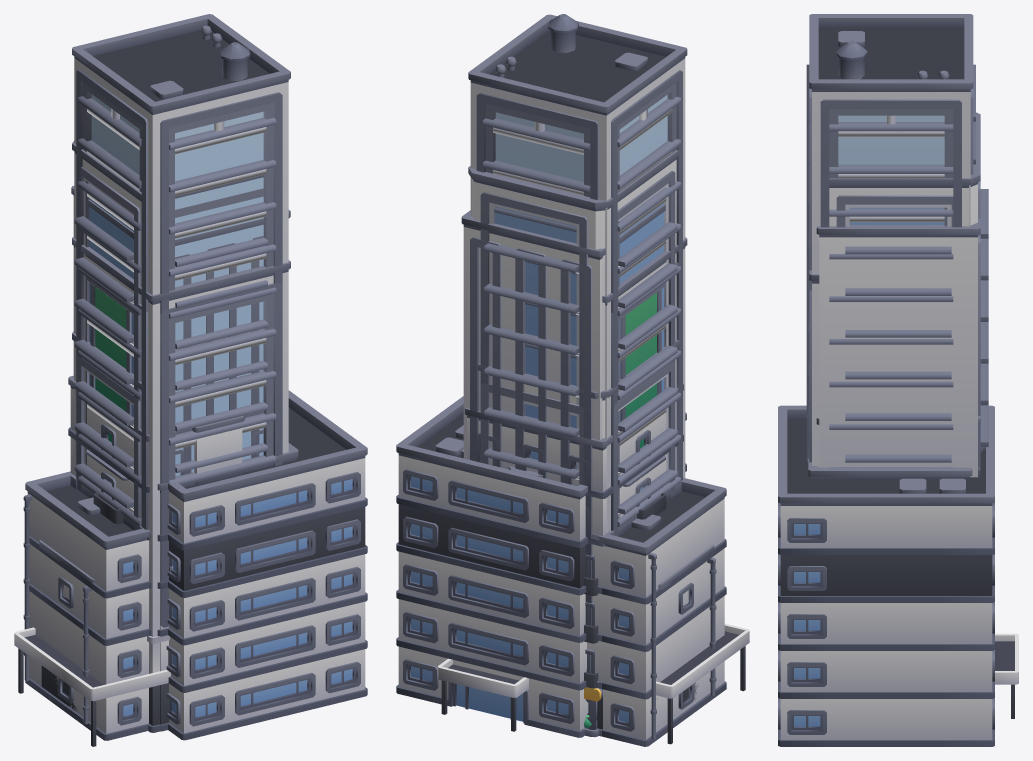
The model's file is commercial.glb.
3 renders of one model, left to right at view 1: azimuth 30°, elevation 25°; view 2: azimuth 150°, elevation 25°; view 3: azimuth 270°, elevation 25°, orthographic.
Parts seen in each view (by area): view 1: building-n, building-skyscraper-d, building-j, building-skyscraper-c, building-skyscraper-b, building-skyscraper-e, building-skyscraper-a, building-k, building-m, building-l; view 2: building-n, building-skyscraper-d, building-skyscraper-b, building-j, building-skyscraper-e, building-m, building-skyscraper-a, building-skyscraper-c, building-k, building-i; view 3: building-n, building-skyscraper-d, building-skyscraper-e, building-skyscraper-b, building-skyscraper-c, building-l, building-skyscraper-a.
Part boxes in pixels (left/top/right/bottom): building-n: left=14, top=390, right=367, bottom=746; building-skyscraper-d: left=72, top=14, right=290, bottom=731; building-j: left=23, top=471, right=149, bottom=740; building-skyscraper-c: left=72, top=237, right=290, bottom=732; building-skyscraper-b: left=72, top=140, right=267, bottom=518; building-skyscraper-e: left=71, top=186, right=290, bottom=480; building-skyscraper-a: left=72, top=331, right=267, bottom=530; building-k: left=39, top=540, right=95, bottom=728; building-m: left=68, top=375, right=263, bottom=629; building-l: left=93, top=443, right=298, bottom=731; building-n: left=396, top=396, right=749, bottom=744; building-skyscraper-d: left=468, top=14, right=687, bottom=530; building-skyscraper-b: left=468, top=150, right=678, bottom=730; building-j: left=583, top=478, right=726, bottom=746; building-skyscraper-e: left=461, top=204, right=665, bottom=729; building-m: left=464, top=383, right=683, bottom=736; building-skyscraper-a: left=477, top=339, right=680, bottom=729; building-skyscraper-c: left=525, top=237, right=687, bottom=532; building-k: left=657, top=545, right=716, bottom=735; building-i: left=584, top=477, right=684, bottom=729; building-n: left=778, top=405, right=1018, bottom=746; building-skyscraper-d: left=806, top=14, right=975, bottom=467; building-skyscraper-e: left=816, top=218, right=980, bottom=477; building-skyscraper-b: left=808, top=112, right=988, bottom=462; building-skyscraper-c: left=806, top=270, right=953, bottom=468; building-l: left=808, top=447, right=985, bottom=479; building-skyscraper-a: left=808, top=368, right=988, bottom=457.
Size of the model in its own units: 2.32 by 5.47 by 1.82.
Materials: 1 (1 with a texture image).
